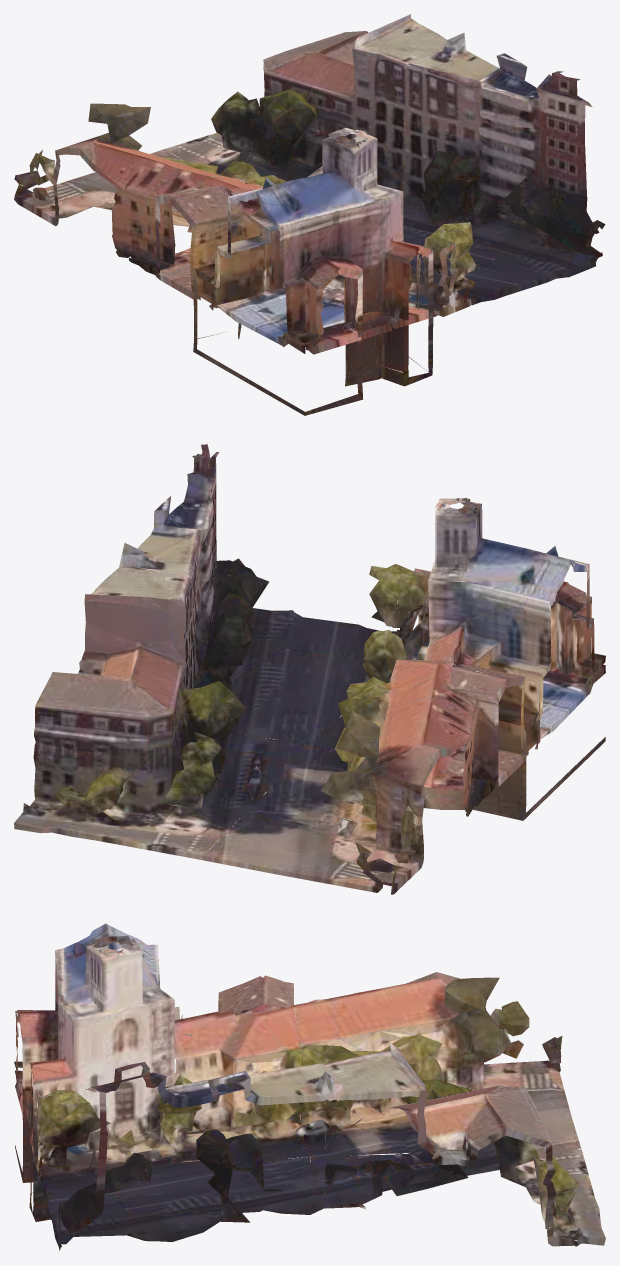
3 views of the same model, one above another, from view 1: azimuth 30°, elevation 25°; view 2: azimuth 150°, elevation 25°; view 3: azimuth 270°, elevation 25° (orthographic). The views are drawn at different scales.
Visible parts, largest first — view 1: Mesh_0; view 2: Mesh_0; view 3: Mesh_0.
Boxes of the visible parts, x1,y1,x2,y2 form: Mesh_0: [14, 14, 605, 415]; Mesh_0: [14, 444, 605, 894]; Mesh_0: [14, 923, 605, 1250].
Bounding box in the file's own units: 66.61 × 39.15 × 82.56.
1 material, 1 textured.
